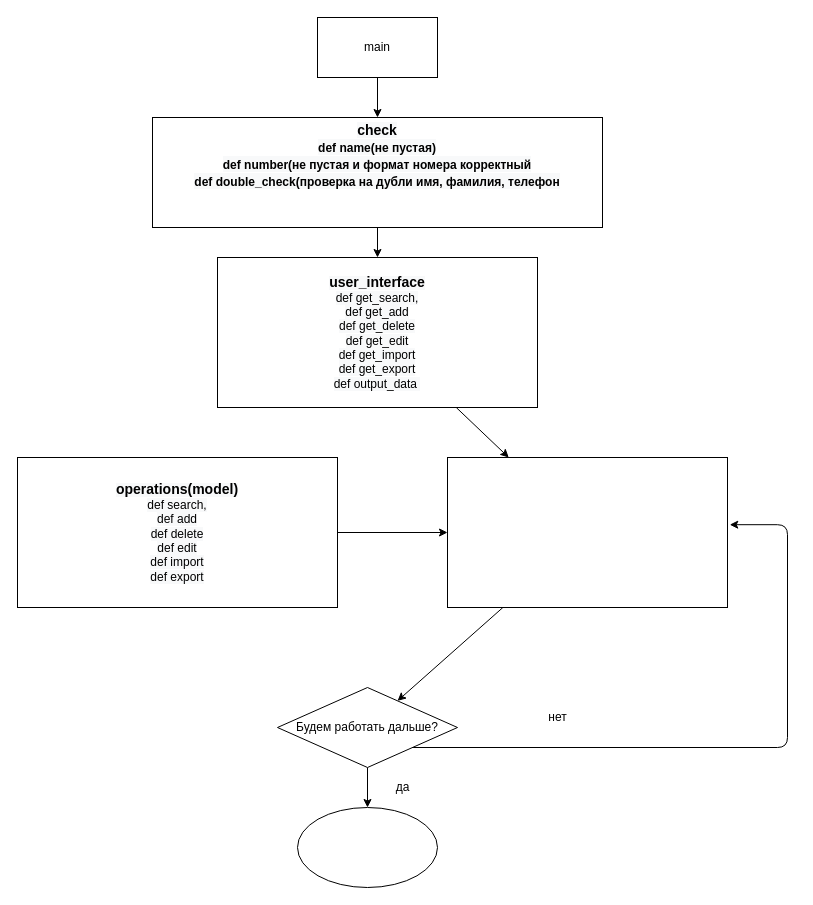
Some shapes in this 813 by 905 pixel diagram are drawn without their labels. The box of each missing label's shape, as (x1, y1, x2, y2) in pixels:
controller: (446, 456, 728, 608)
конец: (296, 806, 438, 888)
